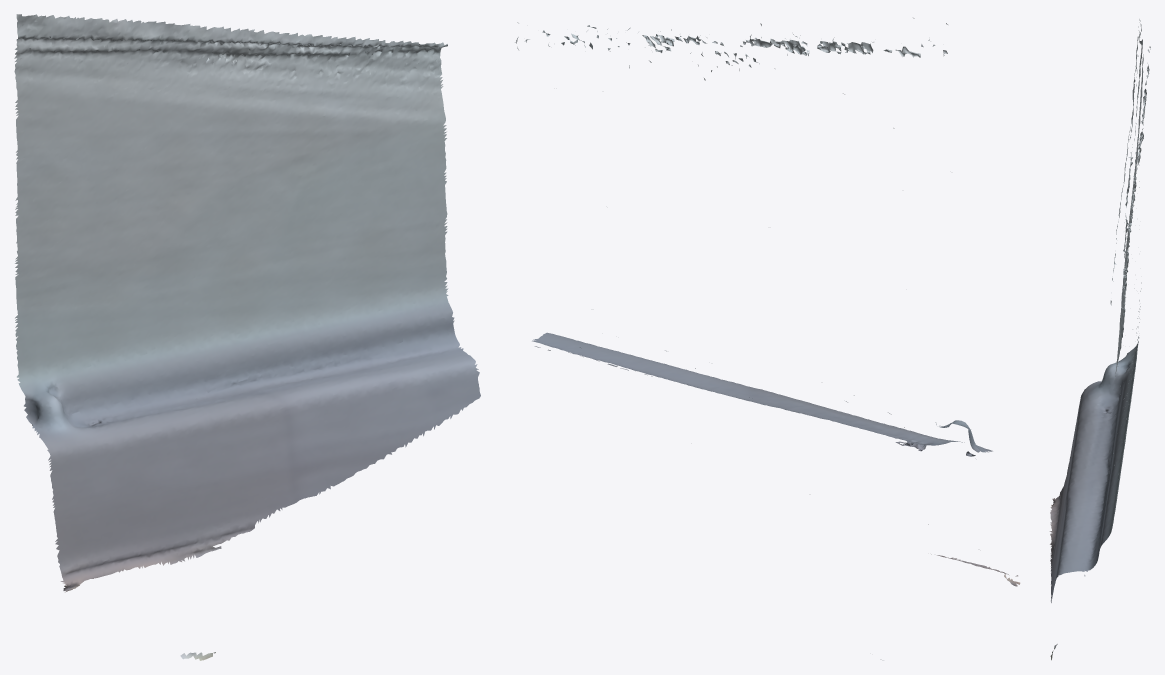
Rendered from apartment-full-32-7734125d3eeb.glb.
3 renders of one model, left to right at view 1: azimuth 30°, elevation 25°; view 2: azimuth 150°, elevation 25°; view 3: azimuth 270°, elevation 25°, orthographic. The views are drawn at different scales.
Bounding box in the file's own units: 1.19 × 1.74 × 0.275.
